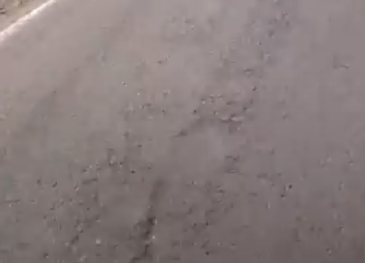Retak Memanjang: (99, 4, 288, 263)
